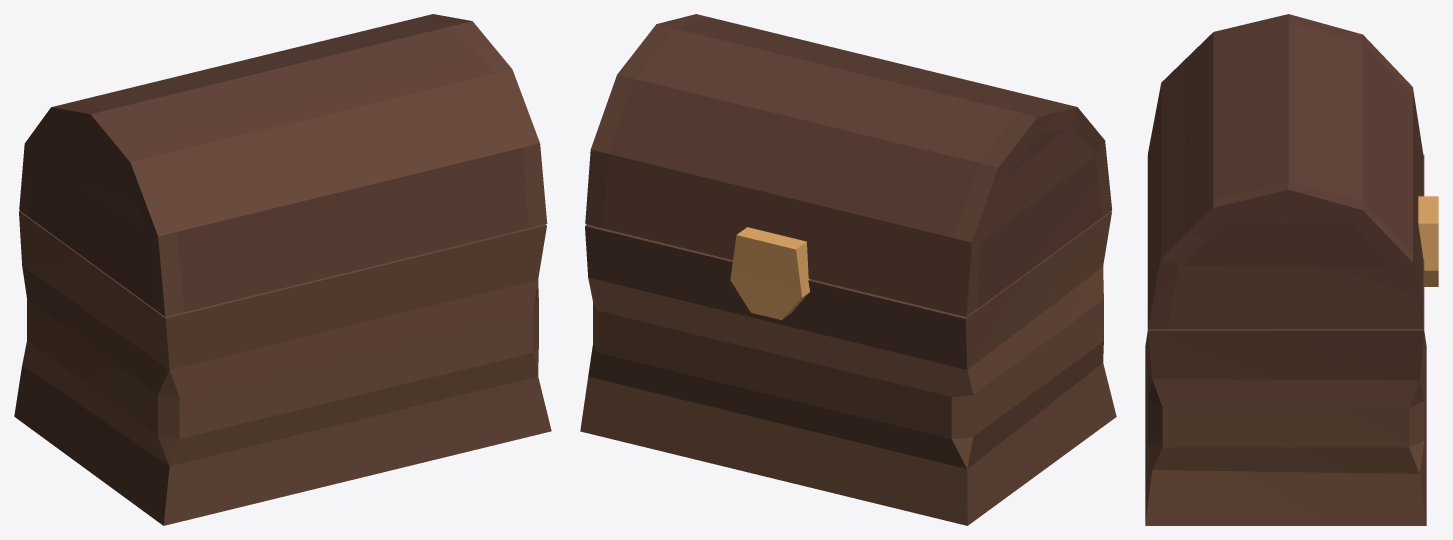
Rendered from m_bg_chest_01.fbx.
3 views of the same model, side by side, from view 1: azimuth 30°, elevation 25°; view 2: azimuth 150°, elevation 25°; view 3: azimuth 270°, elevation 25° (orthographic). The views are drawn at different scales.
Visible parts, largest first — view 1: m_bg_chestBottom_01, m_bg_chestTop_01; view 2: m_bg_chestTop_01, m_bg_chestBottom_01; view 3: m_bg_chestTop_01, m_bg_chestBottom_01.
Part boxes in pixels (x1,y1,x2,y2): m_bg_chestBottom_01: [14, 211, 551, 525]; m_bg_chestTop_01: [19, 14, 547, 316]; m_bg_chestTop_01: [585, 14, 1111, 319]; m_bg_chestBottom_01: [580, 211, 1116, 525]; m_bg_chestTop_01: [1148, 14, 1438, 329]; m_bg_chestBottom_01: [1145, 155, 1426, 525].
Size of the model in its own units: 158 by 138 by 110.
